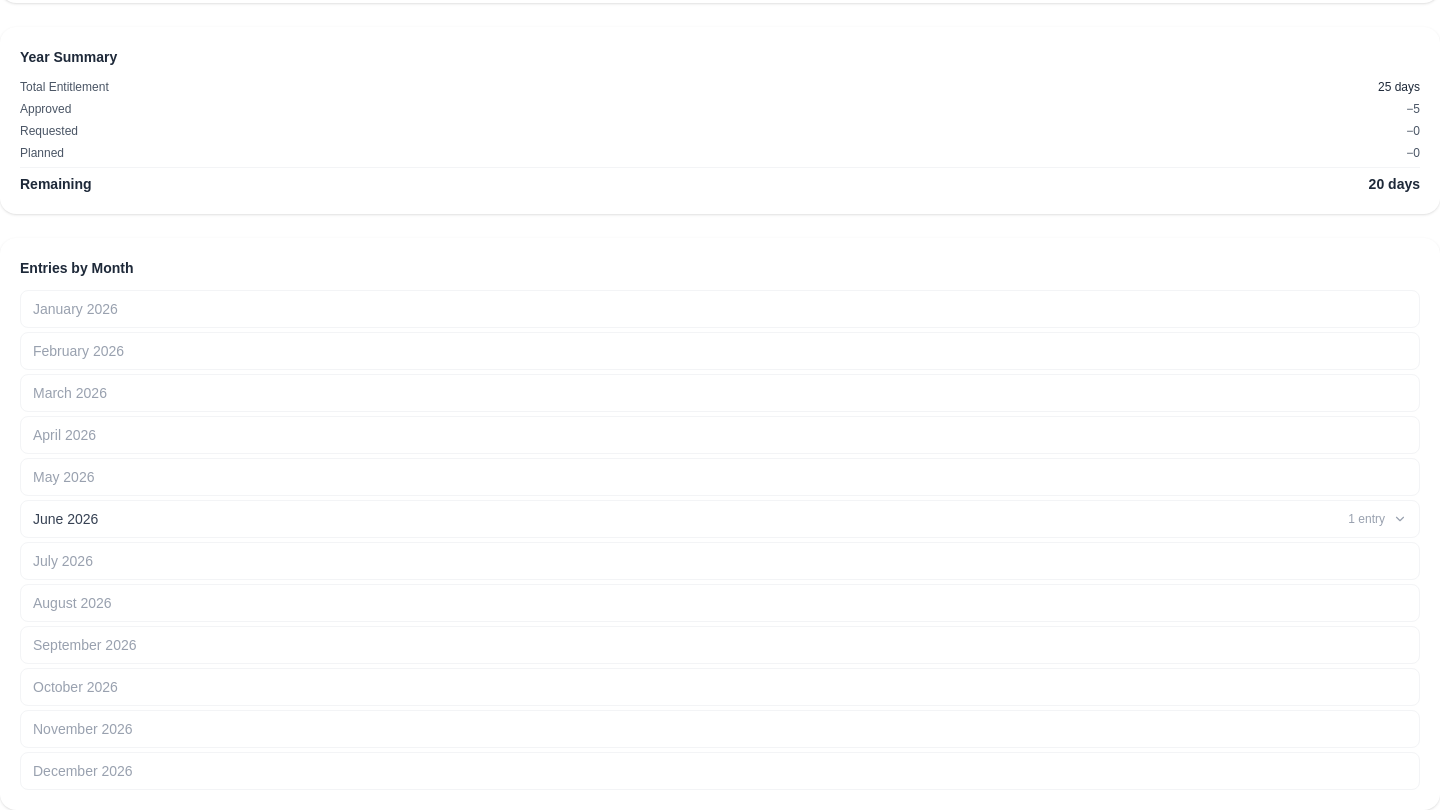
Test: AnnualPlannerView — entry card details › shows entry date range
(page scrolled)
Click the button "June 2026 1 entry" at (66, 519), box x1=21 y1=501 x2=1419 y2=537
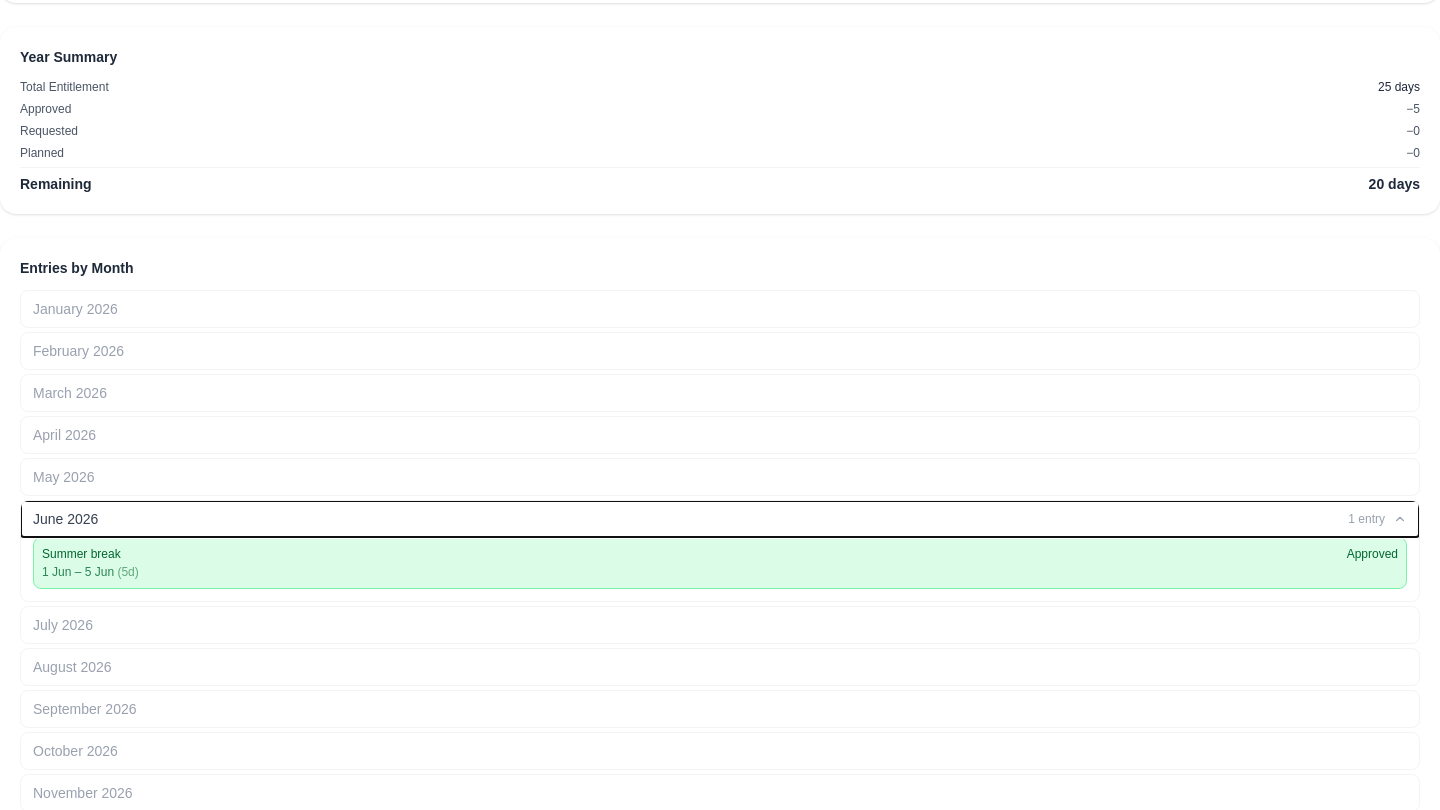
Now the text "1 Jun – 5 Jun (5d)" is shown, box x1=42 y1=565 x2=139 y2=579
